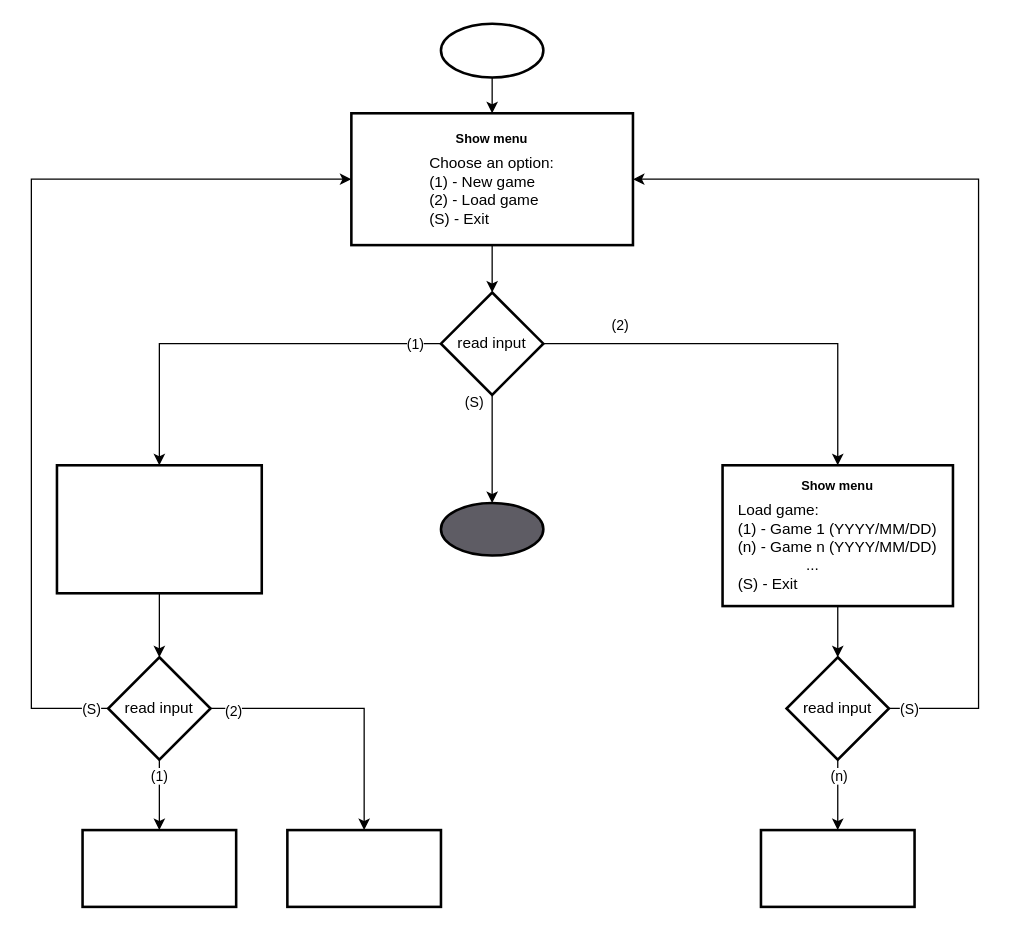
Image size: 1011x929. Some labels were removed from this diagram. The shapes that lost their labels are listed below. From the top down, each one's centre as x and y in pixels, then its label:
At point (491, 50): "START".
At point (158, 528): "Show menu New game: (1) - Normal game (2) - Only pawns (S) - Exit".
At point (491, 528): "END".
